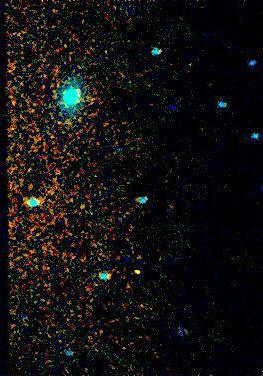star: (123, 258, 153, 288)
